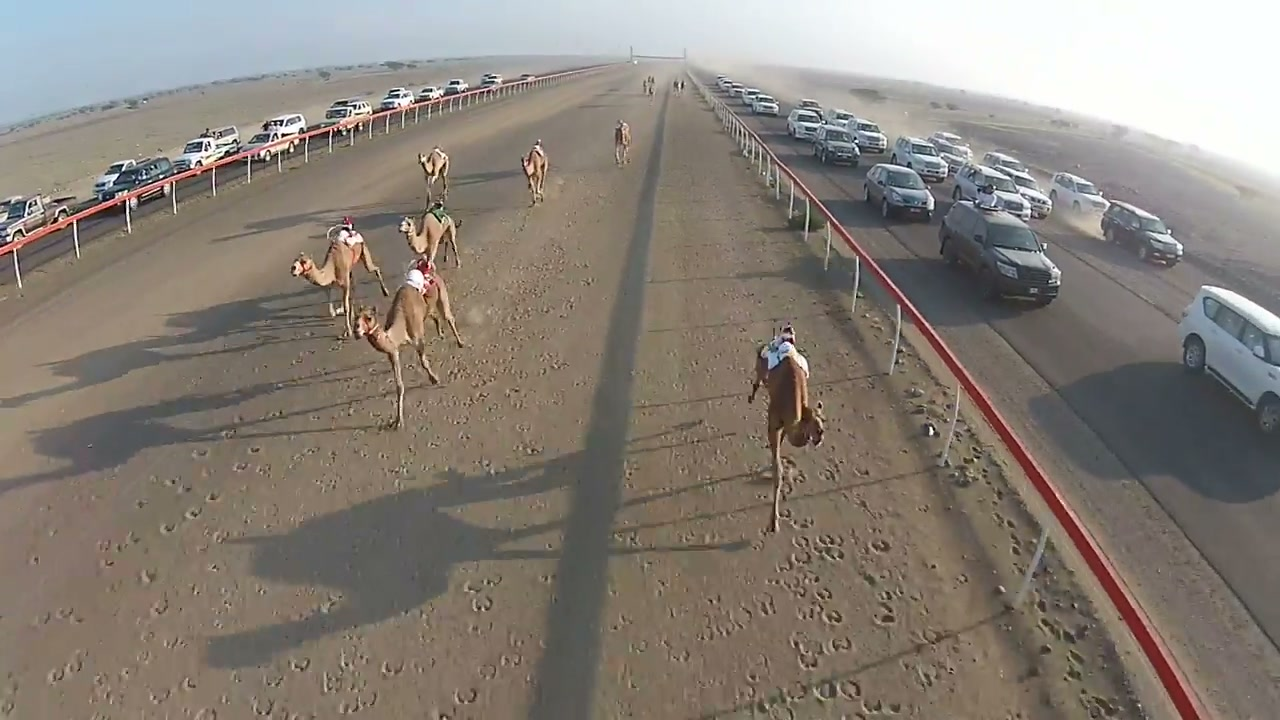animal_footprint: (35, 418, 380, 719), (754, 493, 906, 682)
